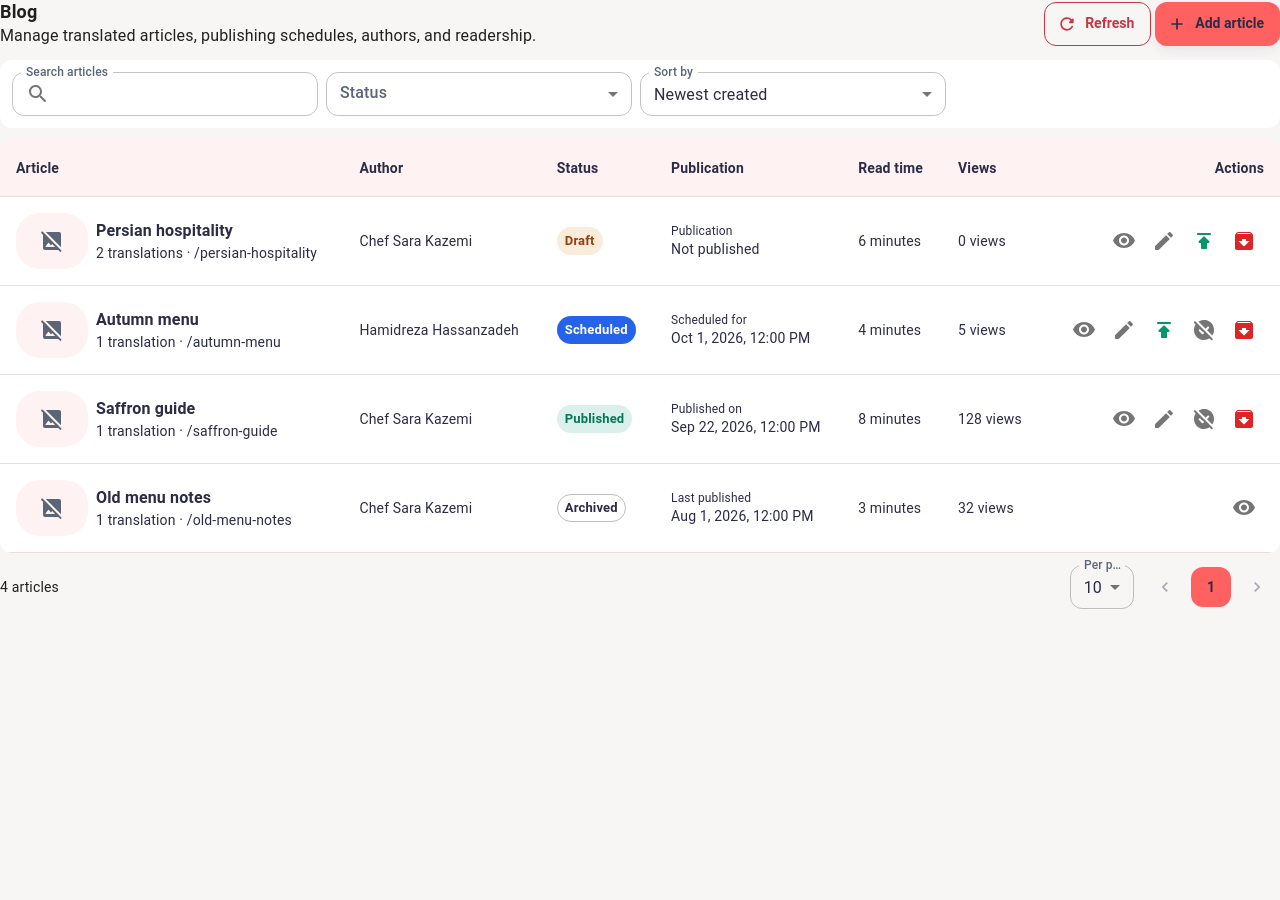
Scenario: blog list › confirms and runs lifecycle actions
Step 1. Click the button named "Publish Persian hospitality" → (1204, 241), box [1184,221,1224,261]
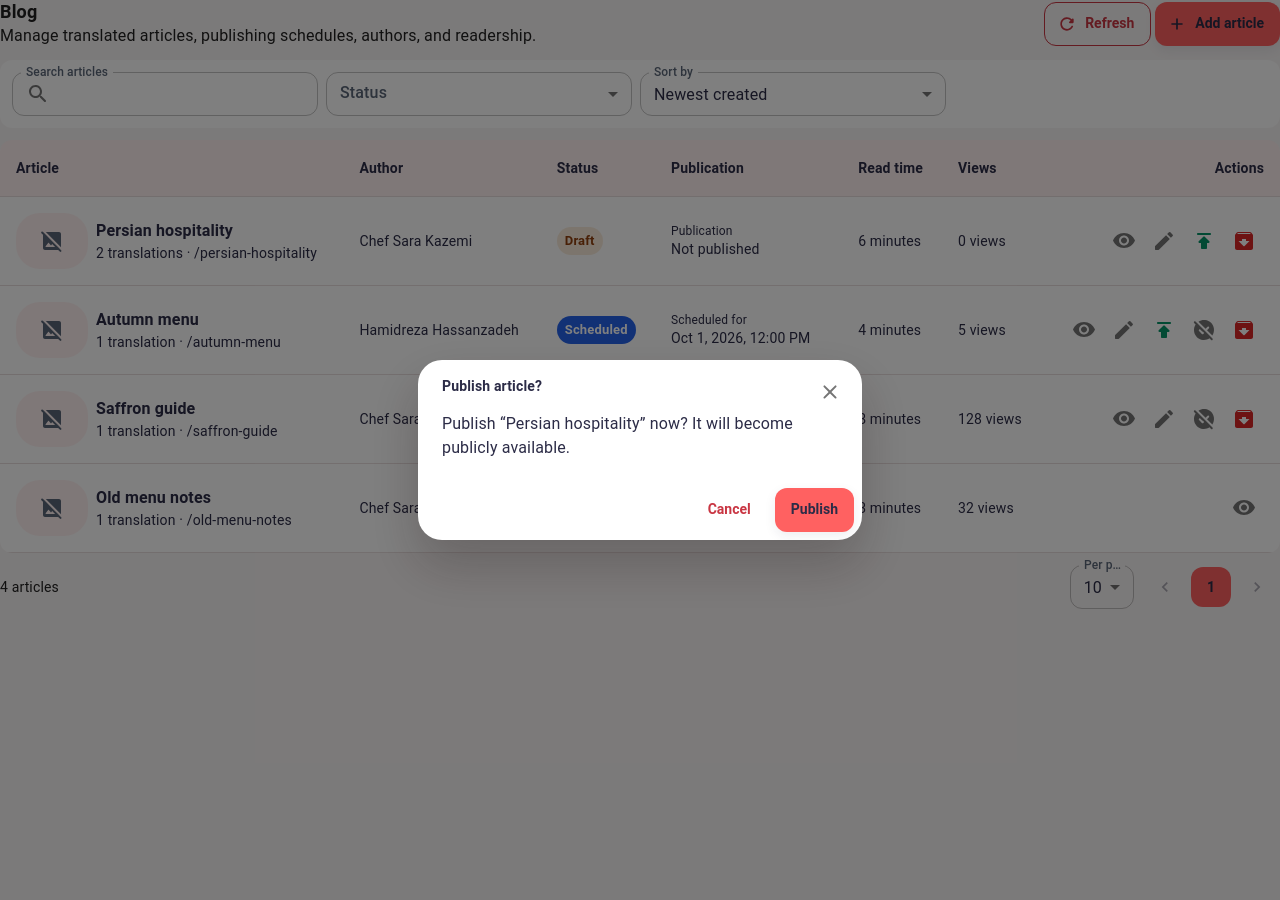
Step 2. Click the button "Publish" → (814, 510), box [775,488,854,532]
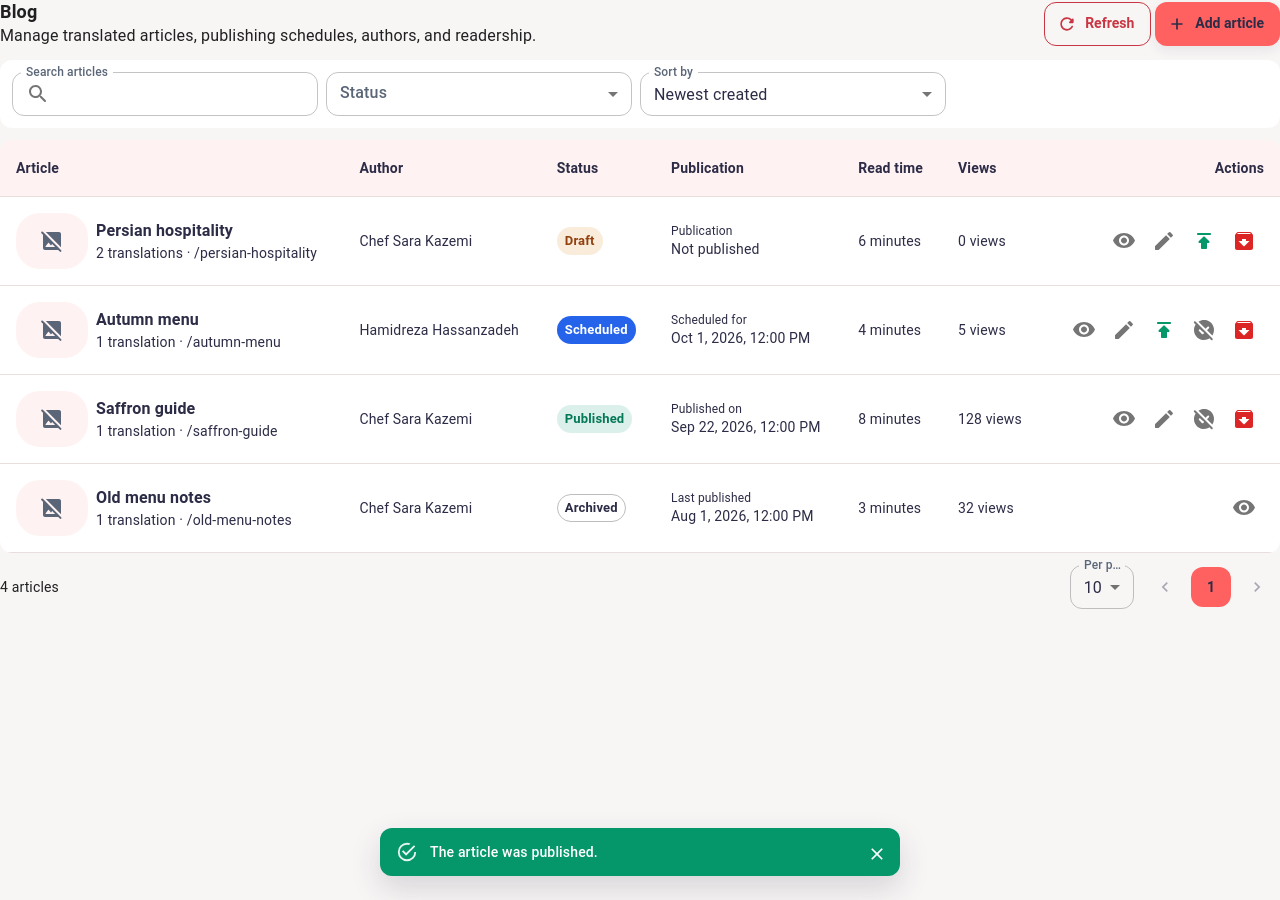
Expected: the text "The article was published." is shown, [430,844,598,860]
